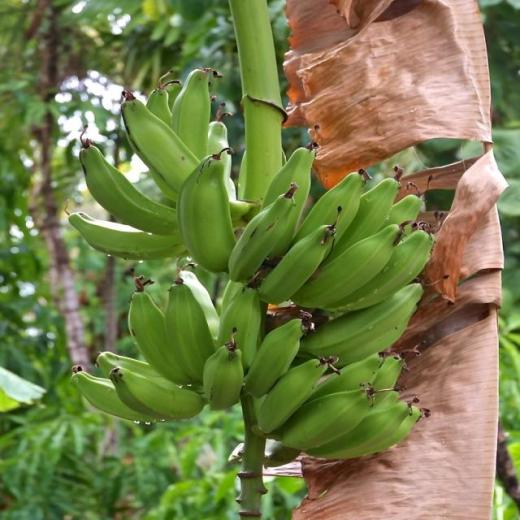Banana: (64, 69, 432, 471), (172, 146, 236, 275)
